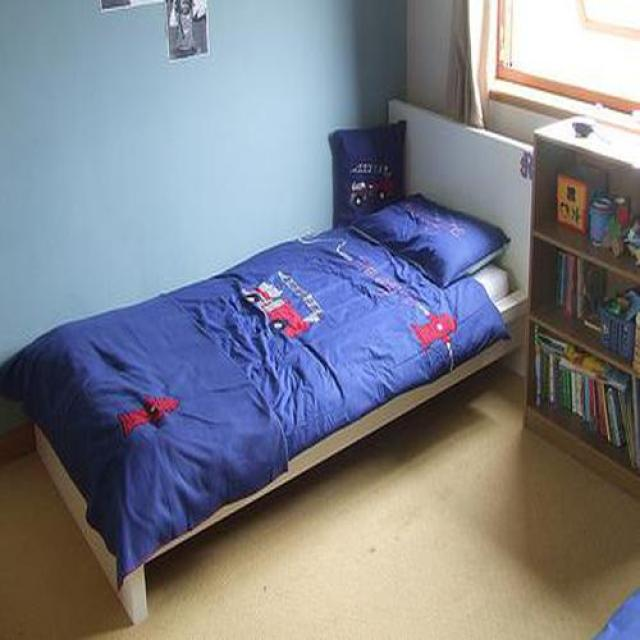bed: (0, 100, 534, 625)
